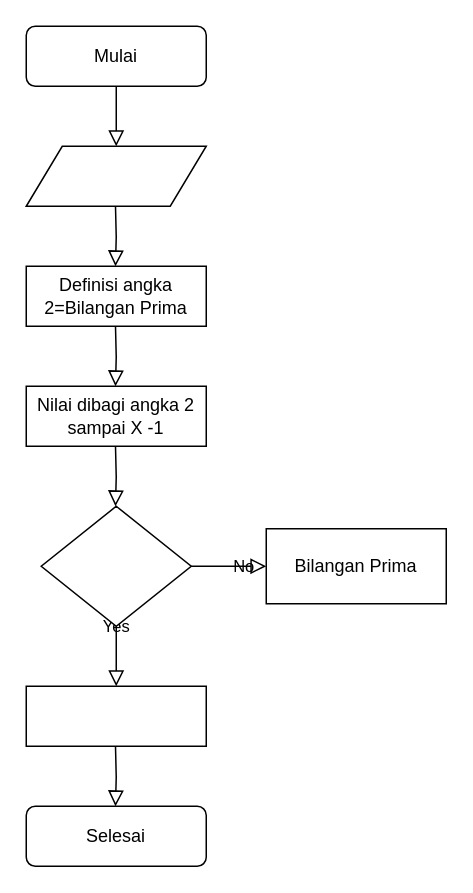
This 473x893 diagram has some shape labels left out. Here are the shapes that lost their labels. From the top down, the centre of each, then its label:
At [115,175]: "Masukan nilai X".
At [115,565]: "X = 0".
At [115,715]: "Bukan Bilangan Prima".
